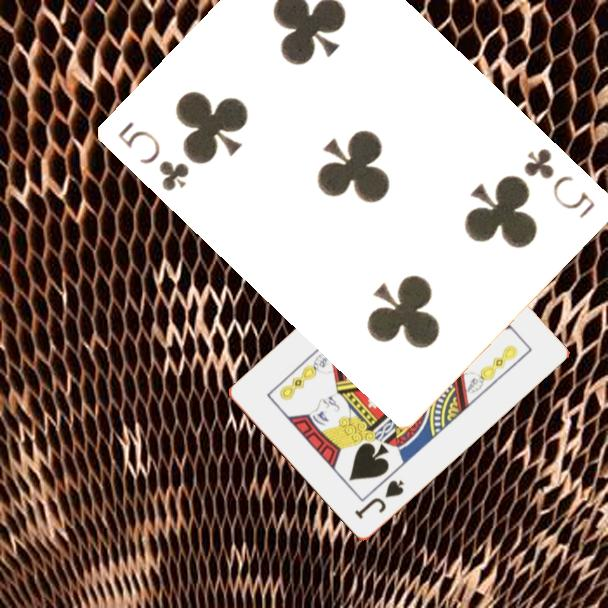c05: (520, 144, 599, 222), (114, 118, 193, 194)
s11: (351, 477, 408, 523)
